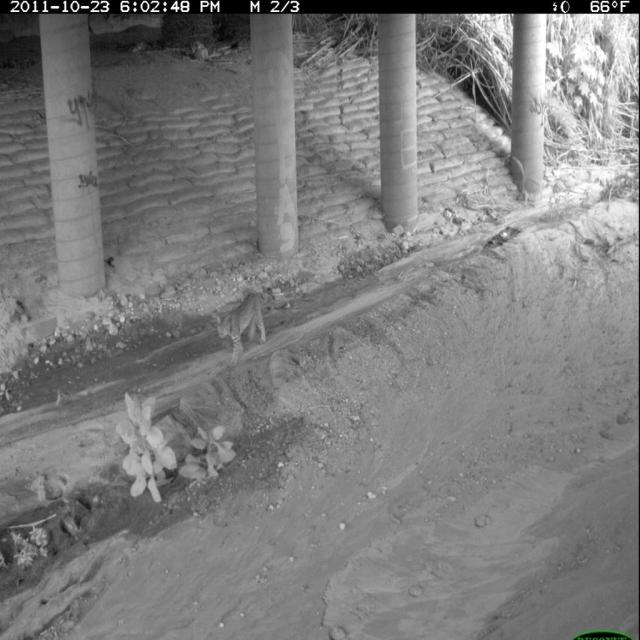bobcat: (214, 289, 270, 371)
